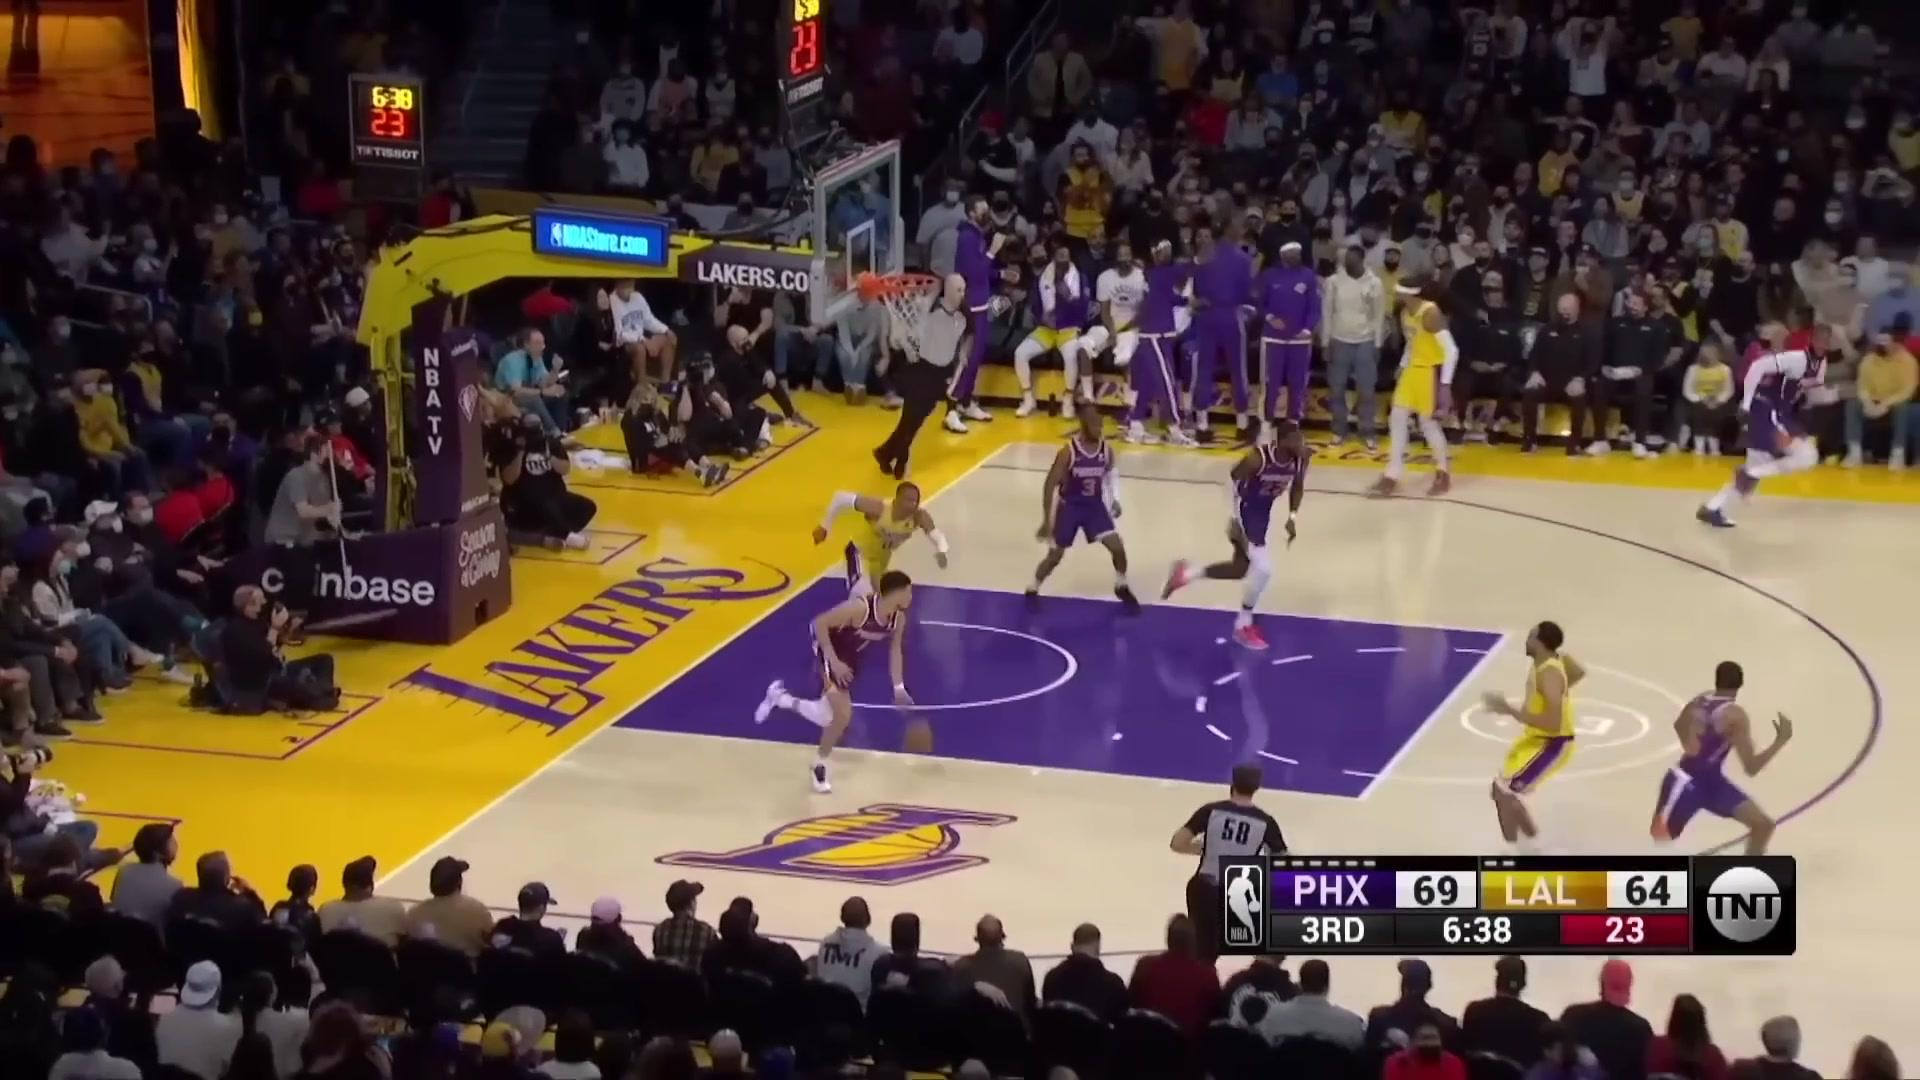no_foul: (771, 481, 959, 773)
